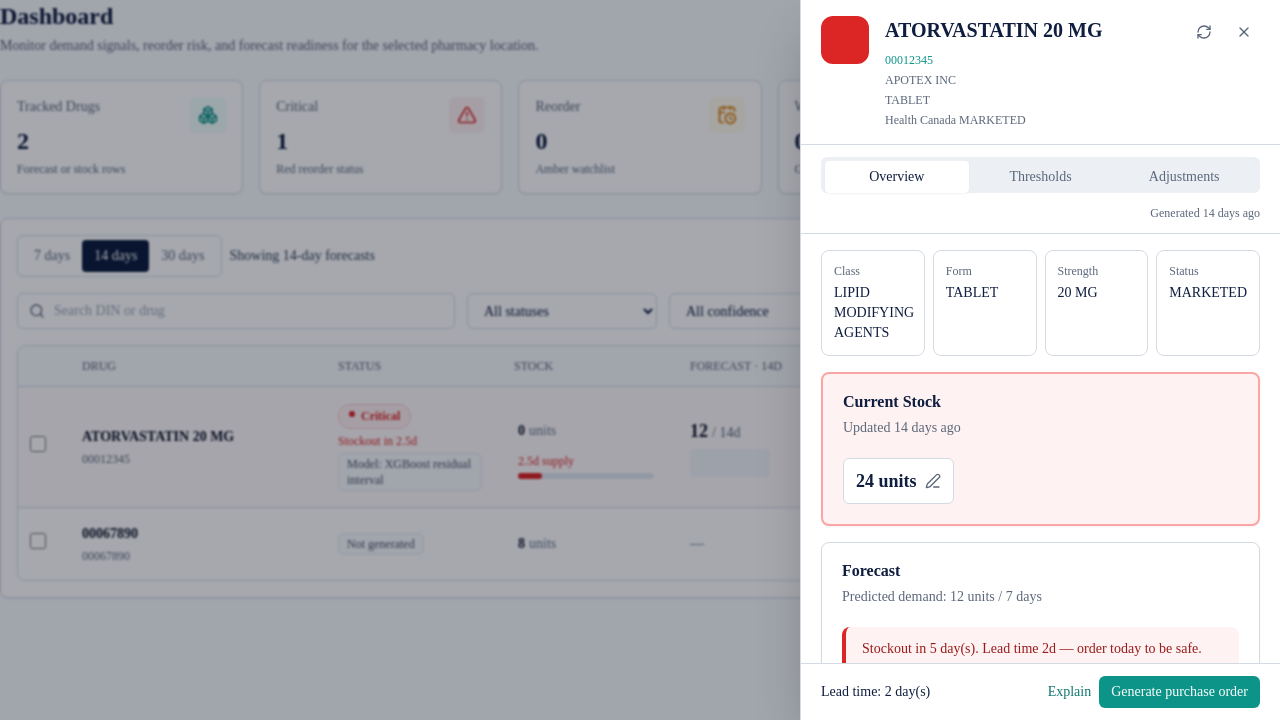
Dashboard route › shows a retryable error state when the explain request fails
Click the button "Explain".
click(1069, 692)  # box [1048,676,1091,708]
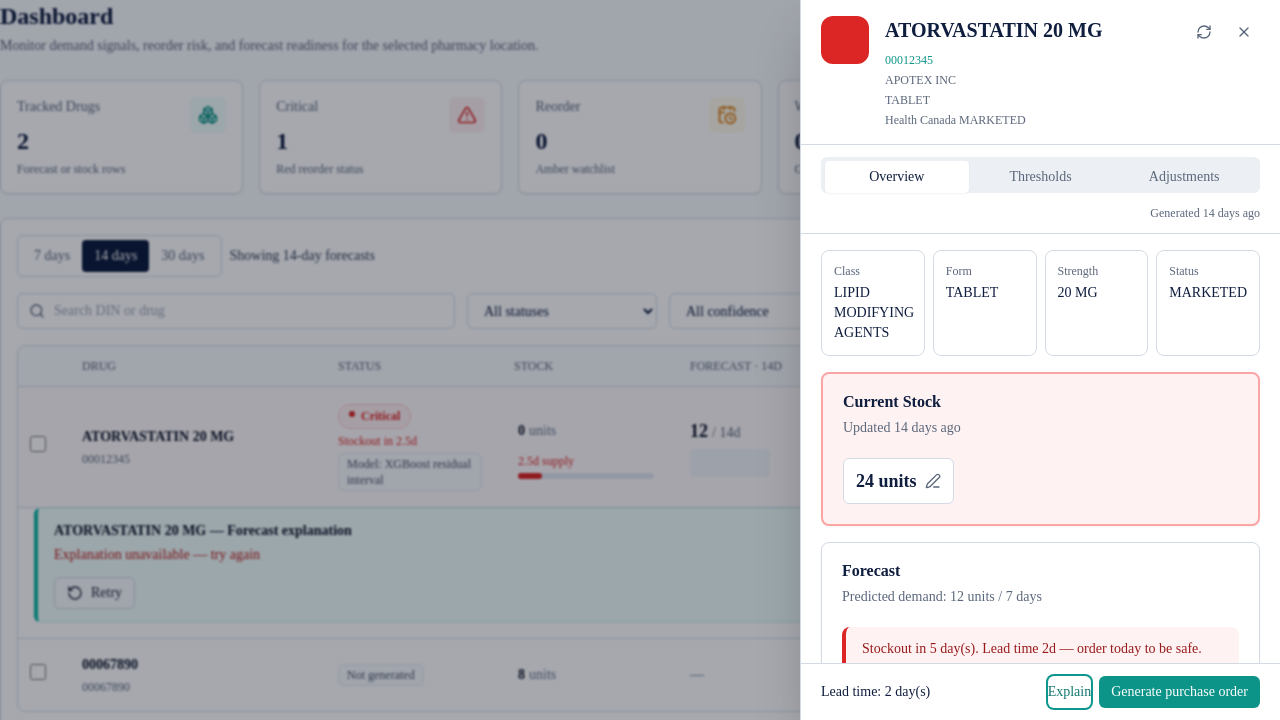
expect the text "Explanation unavailable — try again" is shown 2 times: met
expect the number of buttons "Retry" is 2: met
